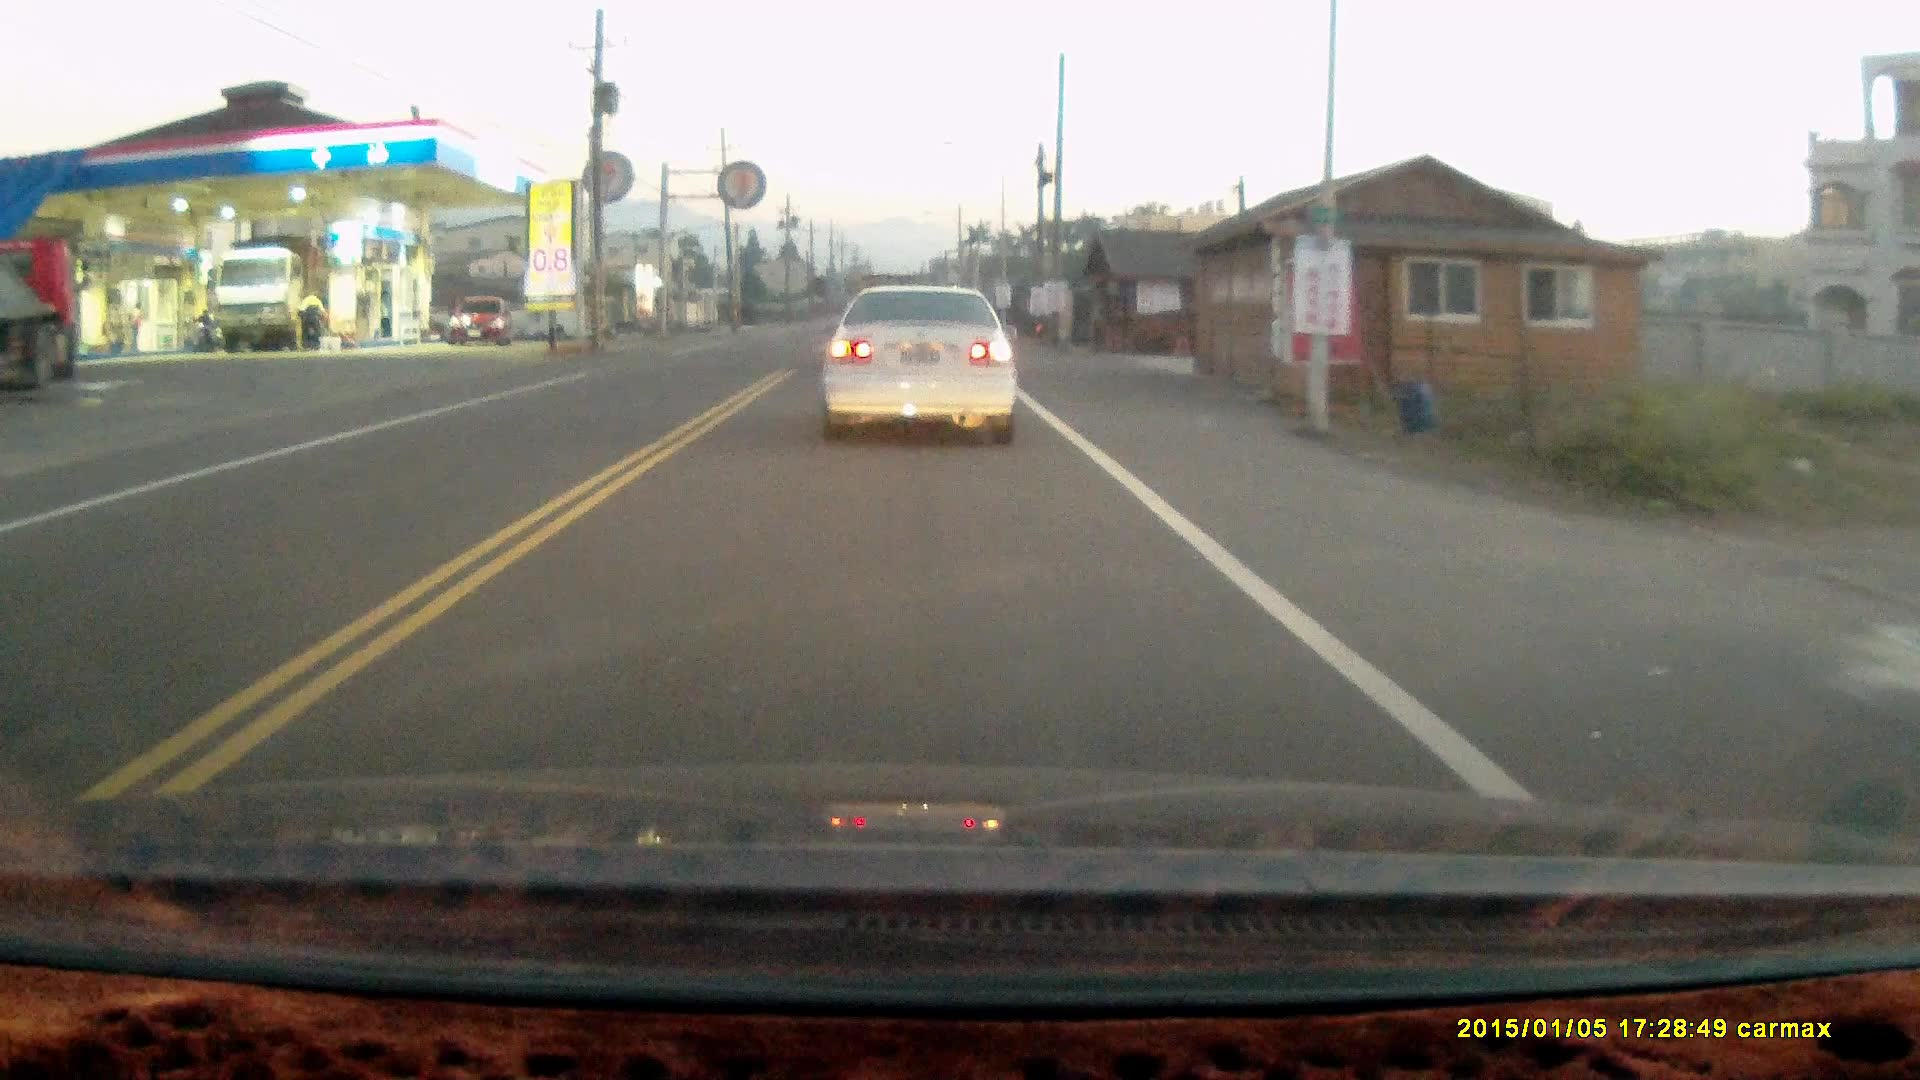pedestrian: (292, 288, 326, 349)
vehicle: (816, 281, 1024, 447), (212, 242, 328, 353), (450, 296, 521, 350)
